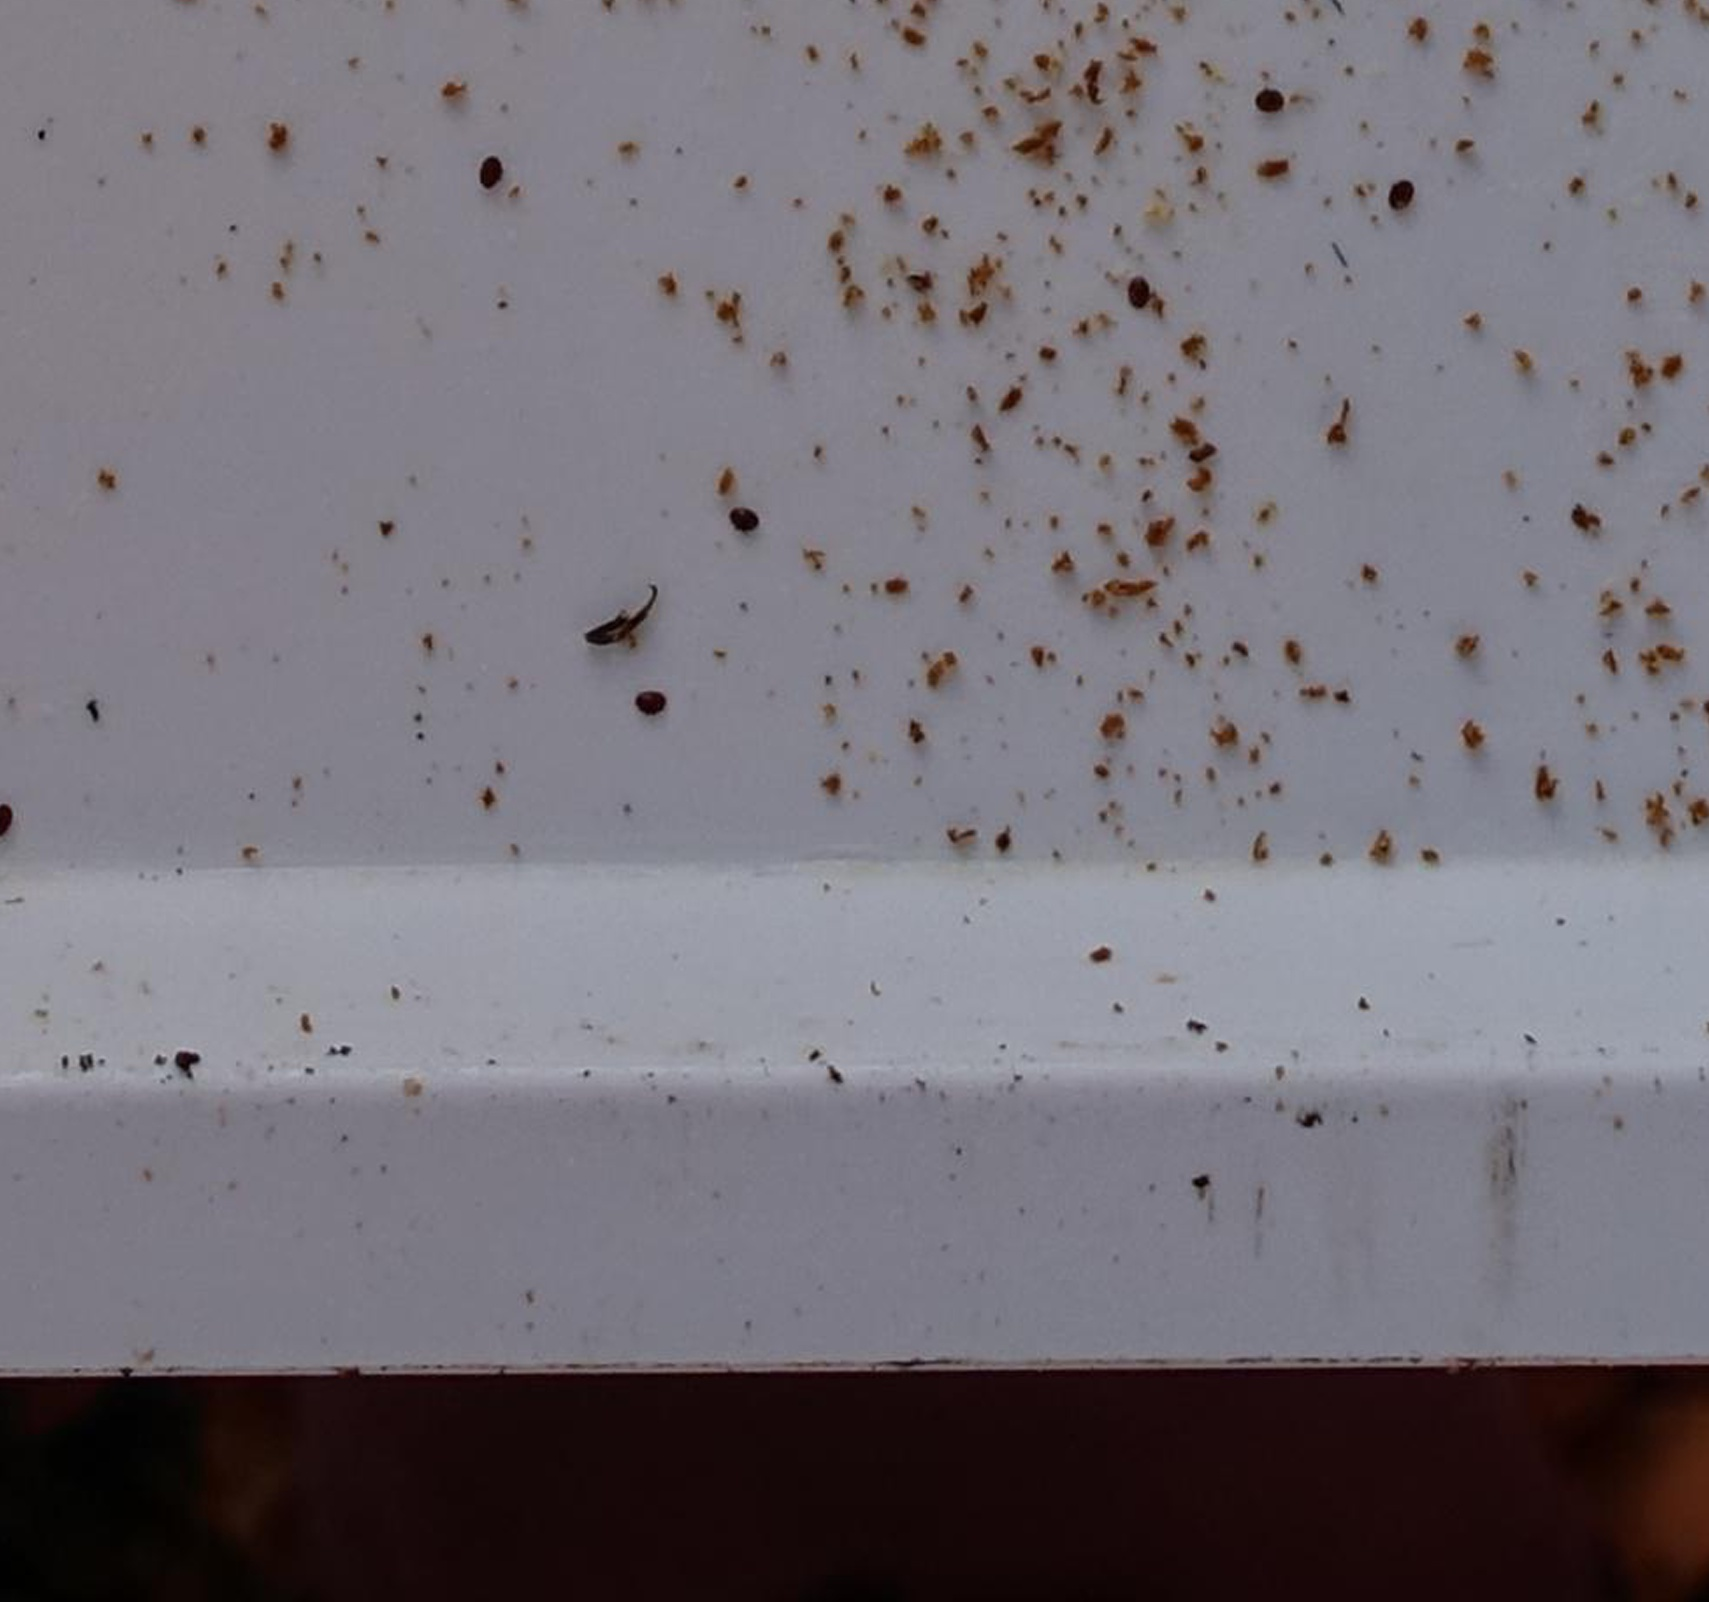Varroa: (1126, 273, 1158, 304), (632, 688, 660, 715), (1385, 181, 1411, 208), (476, 154, 501, 181), (733, 504, 756, 528), (1256, 87, 1278, 111)
